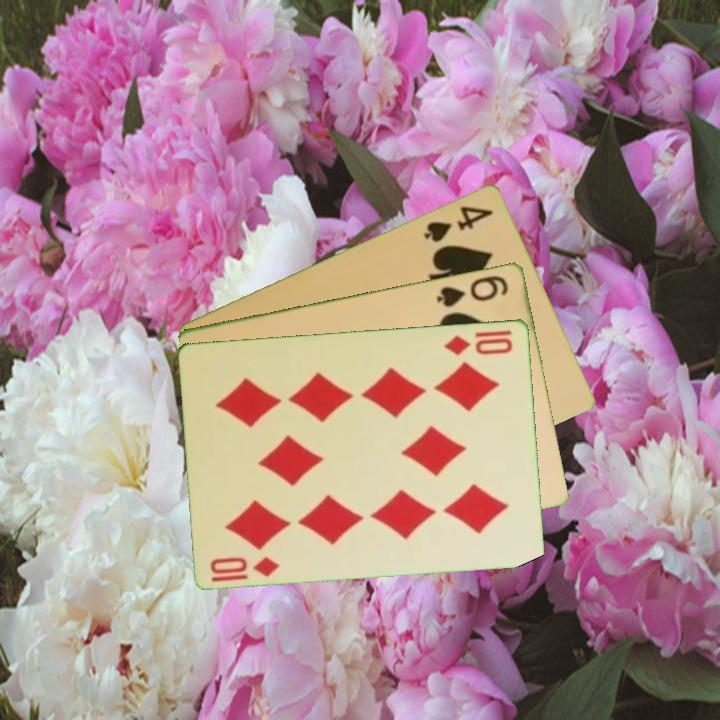10d: (207, 552, 283, 579), (441, 331, 516, 358)
4s: (420, 201, 496, 245)
6s: (433, 271, 512, 310)
